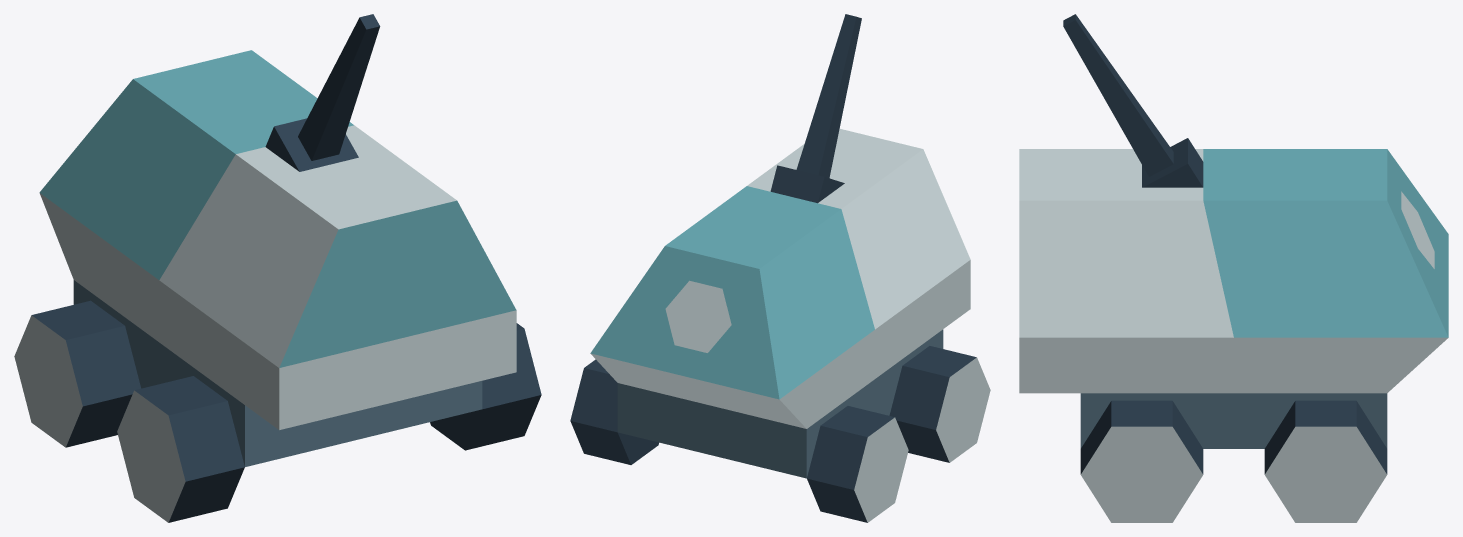
Rendered from rover.glb.
3 views of the same model, side by side, from view 1: azimuth 30°, elevation 25°; view 2: azimuth 150°, elevation 25°; view 3: azimuth 270°, elevation 25° (orthographic). The views are drawn at different scales.
Visible parts, largest first — view 1: rover; view 2: rover; view 3: rover.
Boxes of the visible parts, bbox=[...] form: rover: bbox=[14, 14, 541, 522]; rover: bbox=[570, 14, 990, 522]; rover: bbox=[1019, 14, 1448, 522].
Bounding box in the file's own units: 0.3 × 0.3853 × 0.35.
